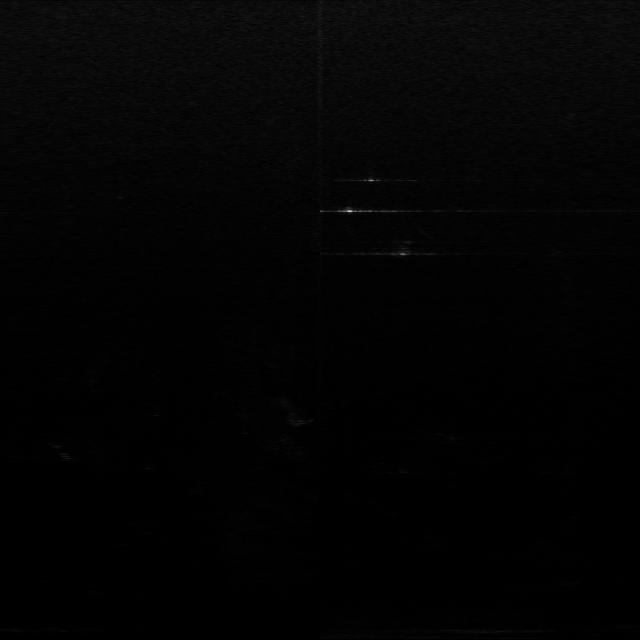rov: (390, 239, 420, 258)
